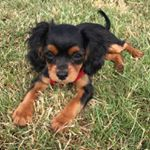puppy: (9, 4, 148, 137)
